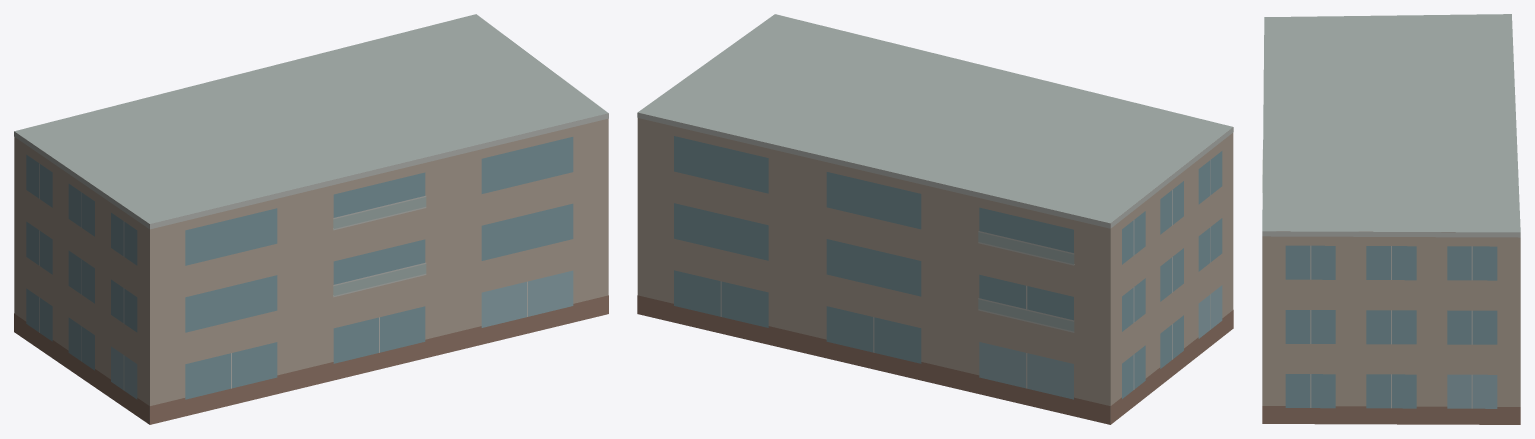
The model's file is survey-upis-32765337.glb.
3 renders of one model, left to right at view 1: azimuth 30°, elevation 25°; view 2: azimuth 150°, elevation 25°; view 3: azimuth 270°, elevation 25°, orthographic. The views are drawn at different scales.
Parts seen in each view (by area): view 1: survey-upis-32765337.tmp; view 2: survey-upis-32765337.tmp; view 3: survey-upis-32765337.tmp.
Part boxes in pixels (x1,y1,x2,y2): survey-upis-32765337.tmp: (14,14,608,424); survey-upis-32765337.tmp: (637,14,1233,424); survey-upis-32765337.tmp: (1262,14,1520,424).
Size of the model in its own units: 22.39 by 9.2 by 11.2.
